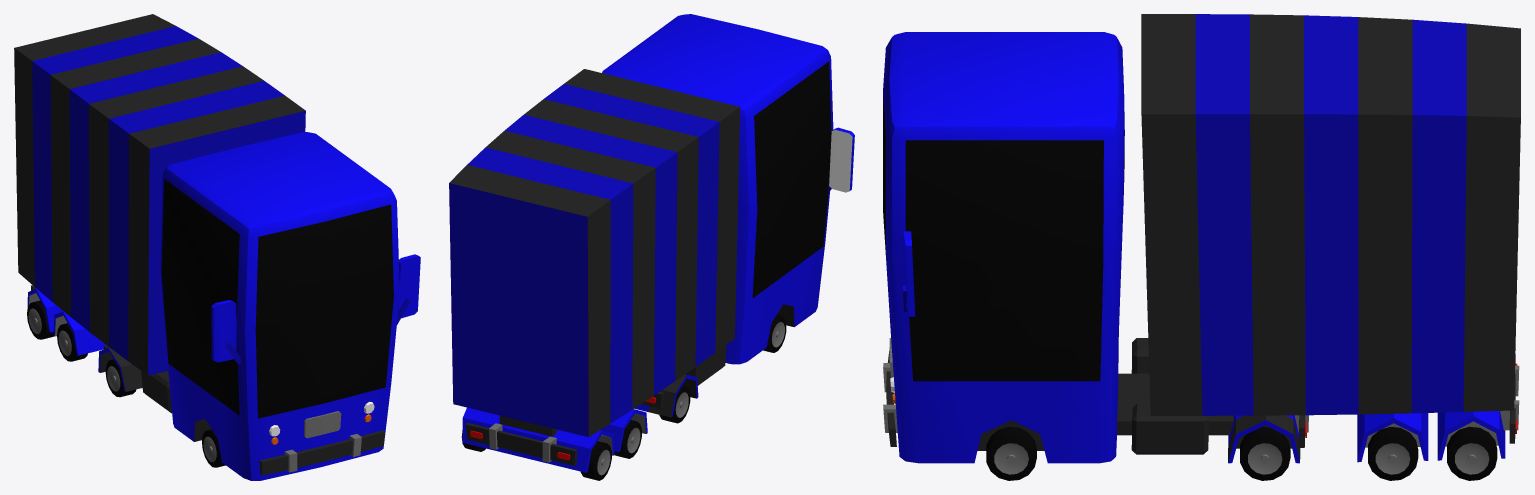
3 renders of one model, left to right at view 1: azimuth 30°, elevation 25°; view 2: azimuth 150°, elevation 25°; view 3: azimuth 270°, elevation 25°, orthographic. The views are drawn at different scales.
Visible parts, largest first — view 1: Cube, Cube.005, Cube.001, Cube.003, Cube.004, Cube.002, Cylinder.007, Cylinder.005, Cylinder.002, Cylinder.003; view 2: Cube.005, Cube, Cube.004, Cube.001, Cylinder.007, Cube.002, Cylinder.005, Cylinder.002, Cylinder.003; view 3: Cube.005, Cube, Cube.002, Cube.004, Cylinder, Cylinder.006, Cylinder.004, Cylinder.001, Cube.003, Cube.001.
Part boxes in pixels (box(x1,y1,x2,y2)): Cube: box(98, 132, 399, 480); Cube.005: box(14, 14, 305, 375); Cube.001: box(211, 254, 420, 364); Cube.003: box(103, 345, 385, 475); Cube.004: box(27, 285, 105, 355); Cube.002: box(141, 371, 171, 413); Cylinder.007: box(27, 300, 54, 339); Cylinder.005: box(57, 323, 87, 361); Cylinder.002: box(202, 429, 225, 467); Cylinder.003: box(105, 359, 136, 397); Cube.005: box(449, 69, 740, 437); Cube: box(602, 14, 833, 417); Cube.004: box(462, 407, 647, 472); Cube.001: box(828, 127, 854, 192); Cylinder.007: box(580, 441, 611, 480); Cube.002: box(685, 345, 726, 385); Cylinder.005: box(614, 420, 641, 458); Cylinder.002: box(763, 314, 786, 352); Cylinder.003: box(659, 385, 690, 423); Cube.005: box(1141, 14, 1520, 415); Cube: box(883, 32, 1300, 463); Cube.002: box(1117, 338, 1233, 454); Cube.004: box(1357, 354, 1519, 462); Cylinder: box(986, 427, 1036, 480); Cylinder.006: box(1447, 426, 1497, 480); Cylinder.004: box(1368, 426, 1418, 480); Cylinder.001: box(1240, 426, 1290, 480); Cube.003: box(883, 350, 1308, 447); Cube.001: box(902, 231, 915, 316).
Bounding box in the file's own units: 166 × 218 × 336.
1 material, 1 textured.
